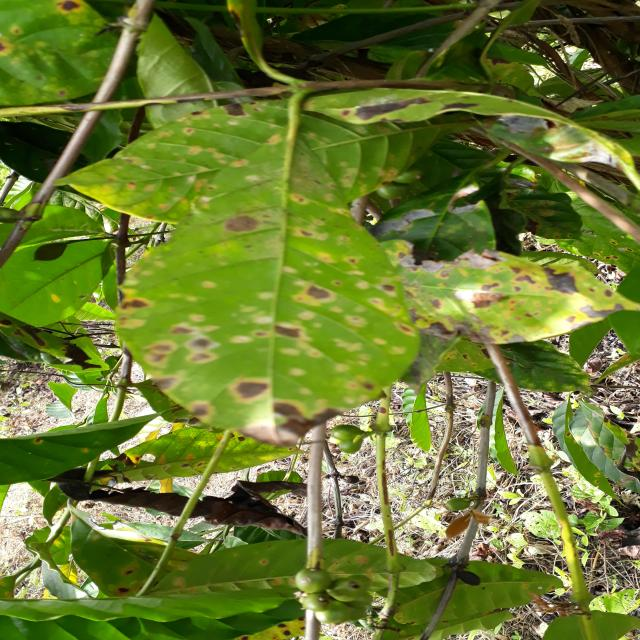Enfermedad-Roya: (120, 88, 420, 442)
